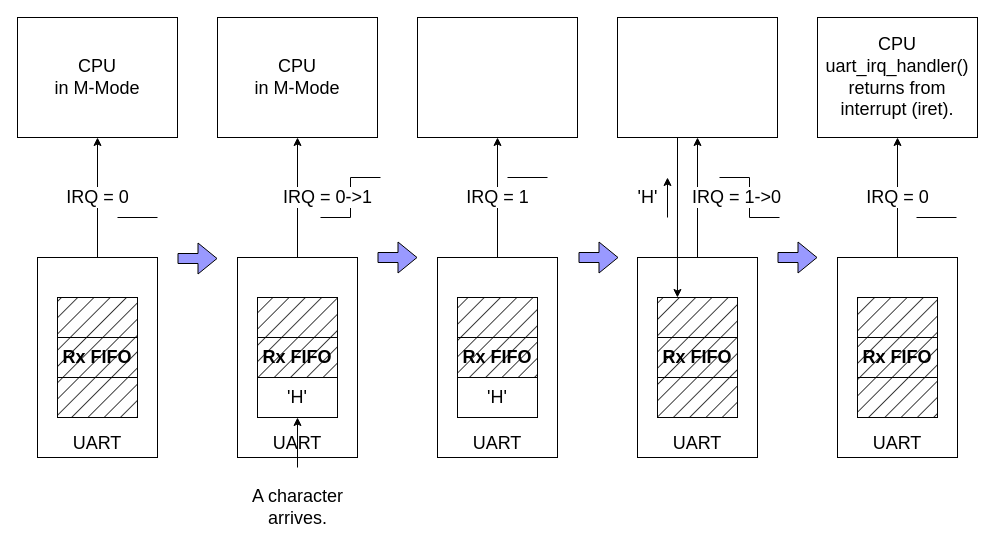
The diagram is 995 pixels wide and 546 high, and some of its shapes have lost their labels. Each missing label, with the centre of its shape:
CPU enters uart_irq_handler().: the point at 497,77
CPU uart_irq_handler() reads character from FIFO.: the point at 697,77
